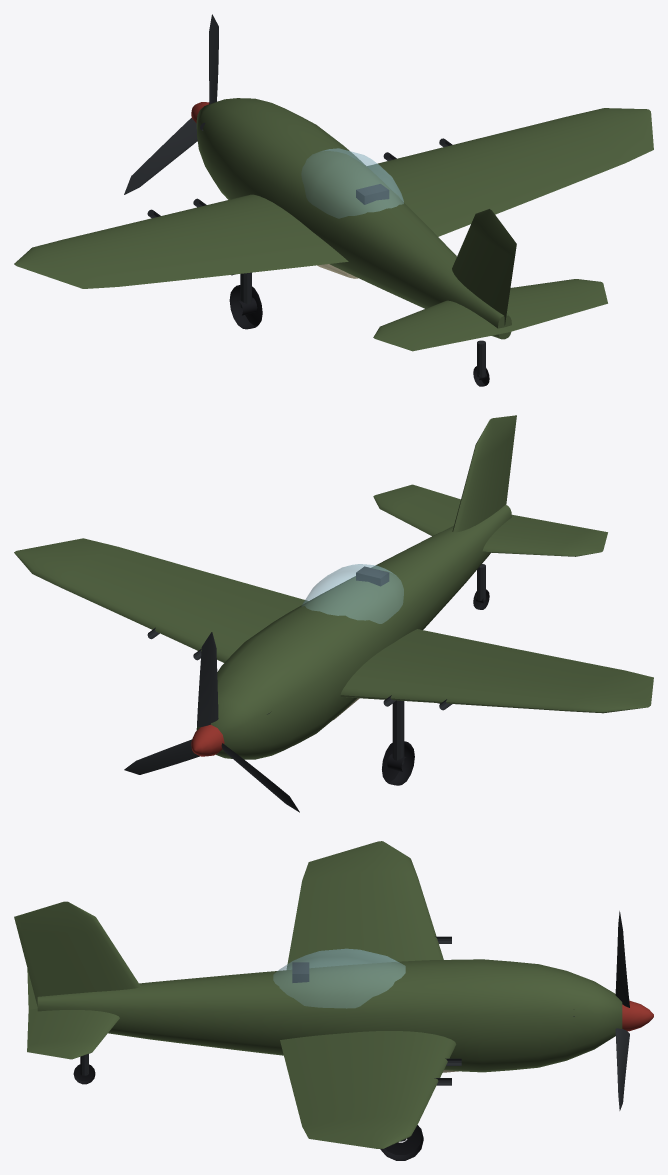
File: falcon.glb
3 renders of one model, top to bottom at view 1: azimuth 30°, elevation 25°; view 2: azimuth 150°, elevation 25°; view 3: azimuth 270°, elevation 25°, orthographic.
Parts seen in each view (by area): view 1: AIRFRAME, HULL, GLASS, PROP_0; view 2: AIRFRAME, HULL, GLASS, PROP_0; view 3: AIRFRAME, HULL, GLASS, PROP_0.
Part boxes in pixels (left/top/right/bottom): AIRFRAME: left=14, top=108, right=653, bottom=386; HULL: left=196, top=98, right=511, bottom=339; GLASS: left=301, top=148, right=403, bottom=218; PROP_0: left=124, top=14, right=218, bottom=194; AIRFRAME: left=14, top=415, right=653, bottom=785; HULL: left=196, top=504, right=511, bottom=759; GLASS: left=301, top=564, right=403, bottom=623; PROP_0: left=124, top=632, right=299, bottom=812; AIRFRAME: left=14, top=841, right=461, bottom=1160; HULL: left=37, top=959, right=622, bottom=1072; GLASS: left=273, top=948, right=405, bottom=1008; PROP_0: left=615, top=911, right=653, bottom=1110.
Bounding box in the file's own units: 11.2 × 3.75 × 9.85.
